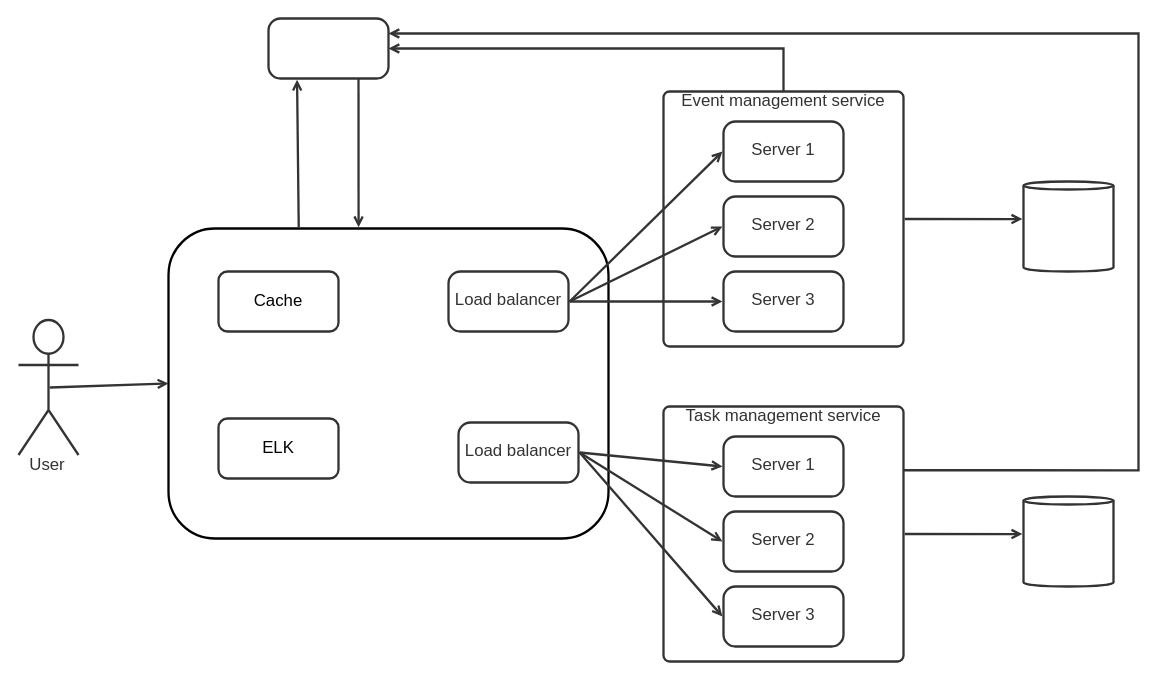
The diagram is 1165 pixels wide and 680 high, and some of its shapes have lost their labels. Each missing label, with the box of its shape:
API Gateway: (167, 227, 609, 539)
Events DB: (1022, 180, 1114, 272)
Service discovery: (267, 17, 389, 79)
Tasks DB: (1022, 495, 1114, 587)
